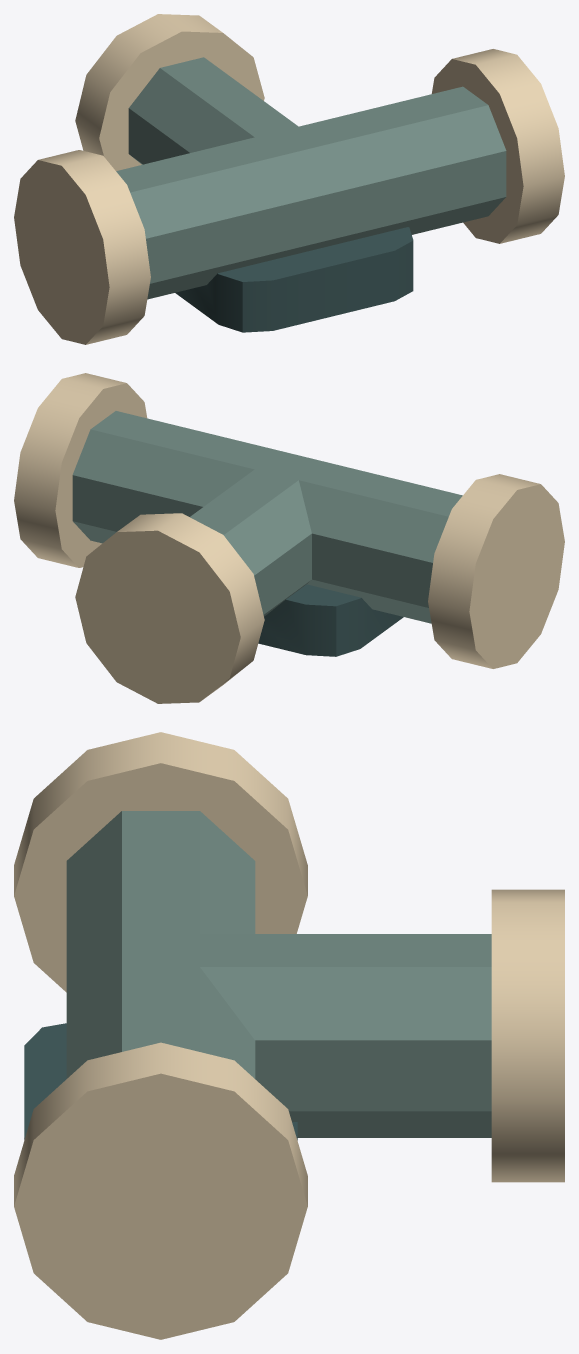
Rendered from pipe-kit-tee.glb.
3 renders of one model, top to bottom at view 1: azimuth 30°, elevation 25°; view 2: azimuth 150°, elevation 25°; view 3: azimuth 270°, elevation 25°, orthographic. The views are drawn at different scales.
Visible parts, largest first — view 1: pipe-kit-tee; view 2: pipe-kit-tee; view 3: pipe-kit-tee.
Part boxes in pixels (<box>): pipe-kit-tee: <box>14,14,564,344</box>; pipe-kit-tee: <box>14,373,564,703</box>; pipe-kit-tee: <box>14,732,564,1339</box>.
Size of the model in its own units: 1.98 by 0.72 by 1.35.
Materials: 1 (1 with a texture image).
